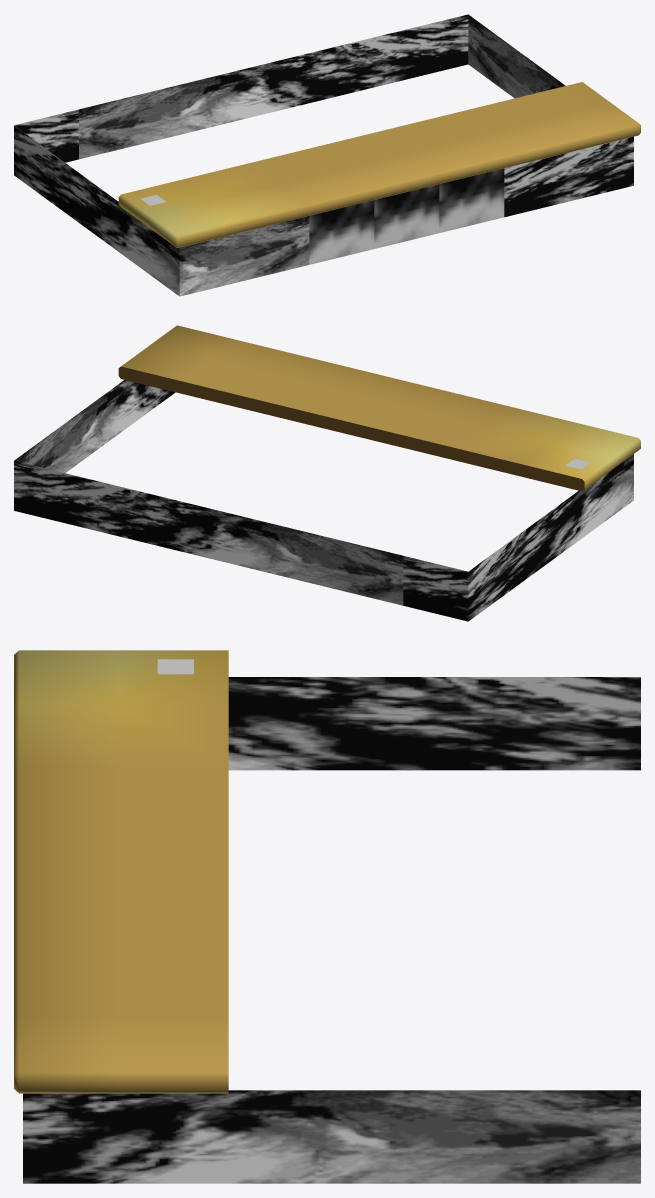
3 views of the same model, one above another, from view 1: azimuth 30°, elevation 25°; view 2: azimuth 150°, elevation 25°; view 3: azimuth 270°, elevation 25° (orthographic). The views are drawn at different scales.
Visible parts, largest first — view 1: Joint_0_Object_0, Joint_0_Object_2; view 2: Joint_0_Object_0, Joint_0_Object_2; view 3: Joint_0_Object_0, Joint_0_Object_2.
Boxes of the visible parts, x1,y1,x2,y2 form: Joint_0_Object_0: (14, 14, 633, 296); Joint_0_Object_2: (118, 82, 640, 247); Joint_0_Object_0: (14, 380, 633, 621); Joint_0_Object_2: (118, 325, 640, 491); Joint_0_Object_0: (23, 677, 640, 1183); Joint_0_Object_2: (14, 650, 228, 1093).
Bounding box in the file's own units: 3900 × 500 × 2435.
